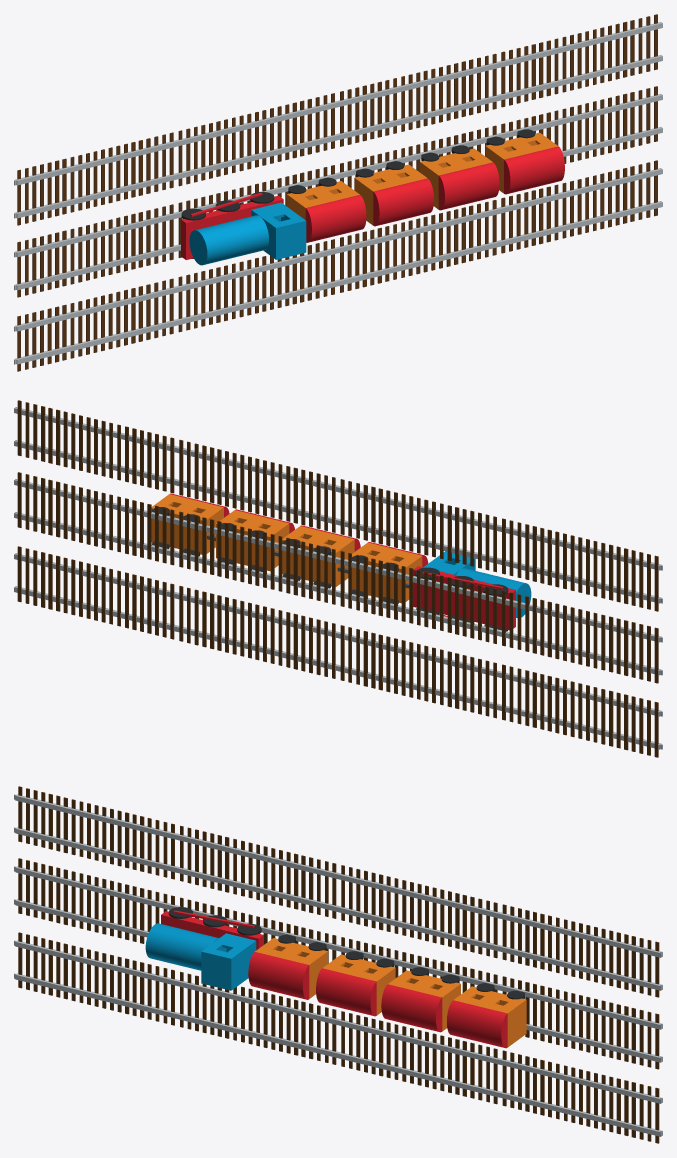
File: tinker.obj
3 views of the same model, one above another, from view 1: azimuth 30°, elevation 25°; view 2: azimuth 150°, elevation 25°; view 3: azimuth 330°, elevation 25° (orthographic).
Visible parts, largest first — view 1: group_0_6306067, group_0_12568524, group_0_15277357, group_0_16089887, group_0_40919, group_0_2829873; view 2: group_0_6306067, group_0_12568524, group_0_16089887, group_0_15277357, group_0_2829873, group_0_40919; view 3: group_0_6306067, group_0_12568524, group_0_15277357, group_0_16089887, group_0_40919, group_0_2829873.
Part boxes in pixels (left/top/right/bottom): group_0_6306067: left=17, top=14, right=657, bottom=371; group_0_12568524: left=14, top=22, right=662, bottom=364; group_0_15277357: left=181, top=146, right=564, bottom=259; group_0_16089887: left=286, top=132, right=557, bottom=225; group_0_40919: left=189, top=202, right=306, bottom=265; group_0_2829873: left=181, top=129, right=535, bottom=258; group_0_6306067: left=17, top=400, right=658, bottom=757; group_0_12568524: left=14, top=407, right=662, bottom=749; group_0_16089887: left=151, top=494, right=422, bottom=603; group_0_15277357: left=170, top=493, right=515, bottom=630; group_0_2829873: left=152, top=507, right=508, bottom=631; group_0_40919: left=424, top=551, right=531, bottom=617; group_0_6306067: left=18, top=786, right=659, bottom=1143; group_0_12568524: left=14, top=794, right=662, bottom=1136; group_0_15277357: left=161, top=910, right=507, bottom=1048; group_0_16089887: left=255, top=938, right=526, bottom=1047; group_0_40919: left=145, top=923, right=256, bottom=990; group_0_2829873: left=168, top=907, right=524, bottom=999.
Bounding box in the file's own units: 594 × 176 × 61.
